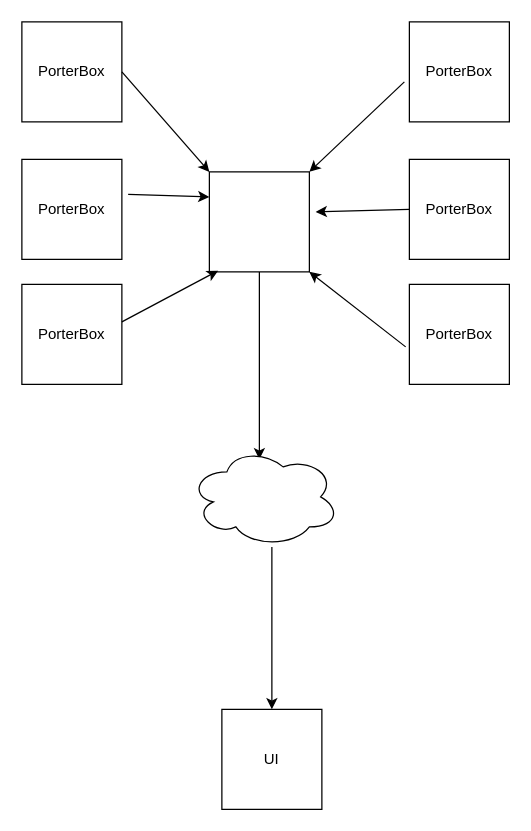
This 531x831 diagram has some shape labels left out. The shapes that lost their labels are listed below. From the top down, each one's centre as x and y in pixels, then its label:
At [258,221]: "GateWay".
At [263,496]: "Azure".
